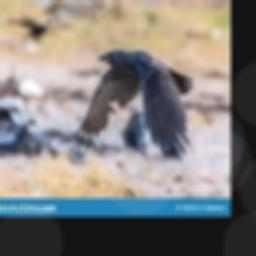Crow: (71, 48, 194, 160)
